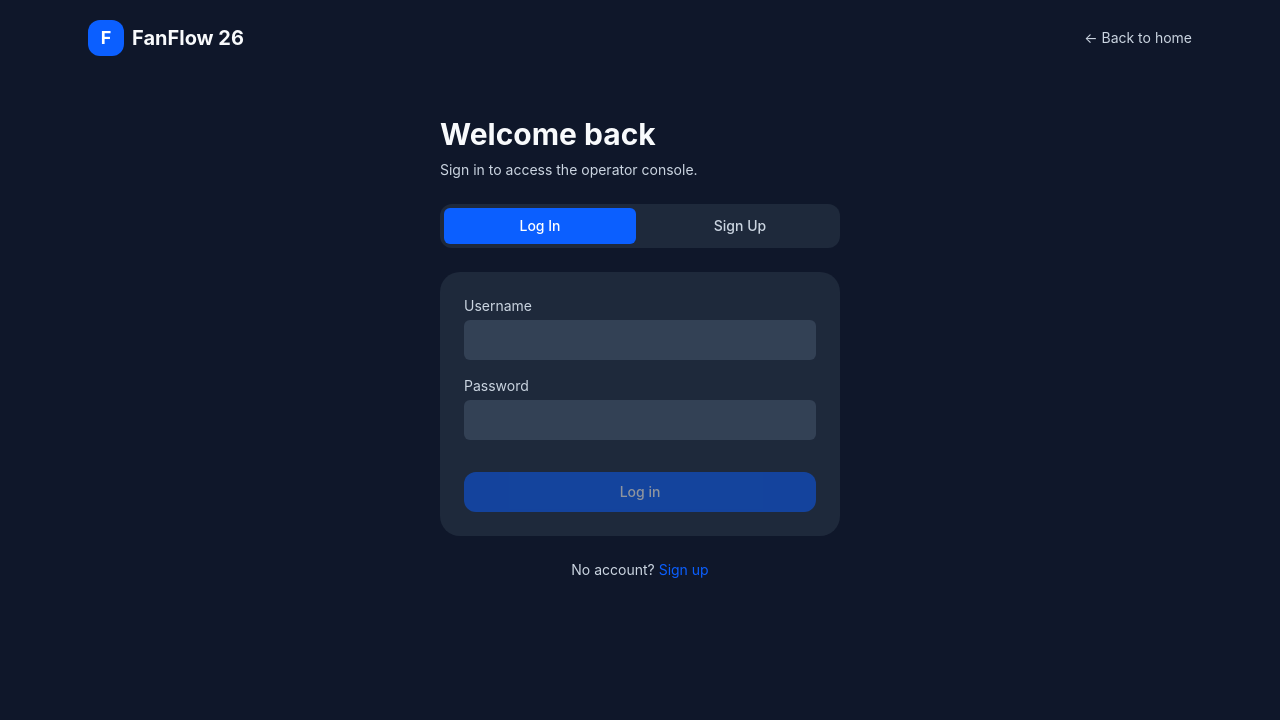
Test: AuthPage › shows an error when login fails
Type "operator" into the field labelled "Username" at (640, 340), box [464, 320, 816, 360]
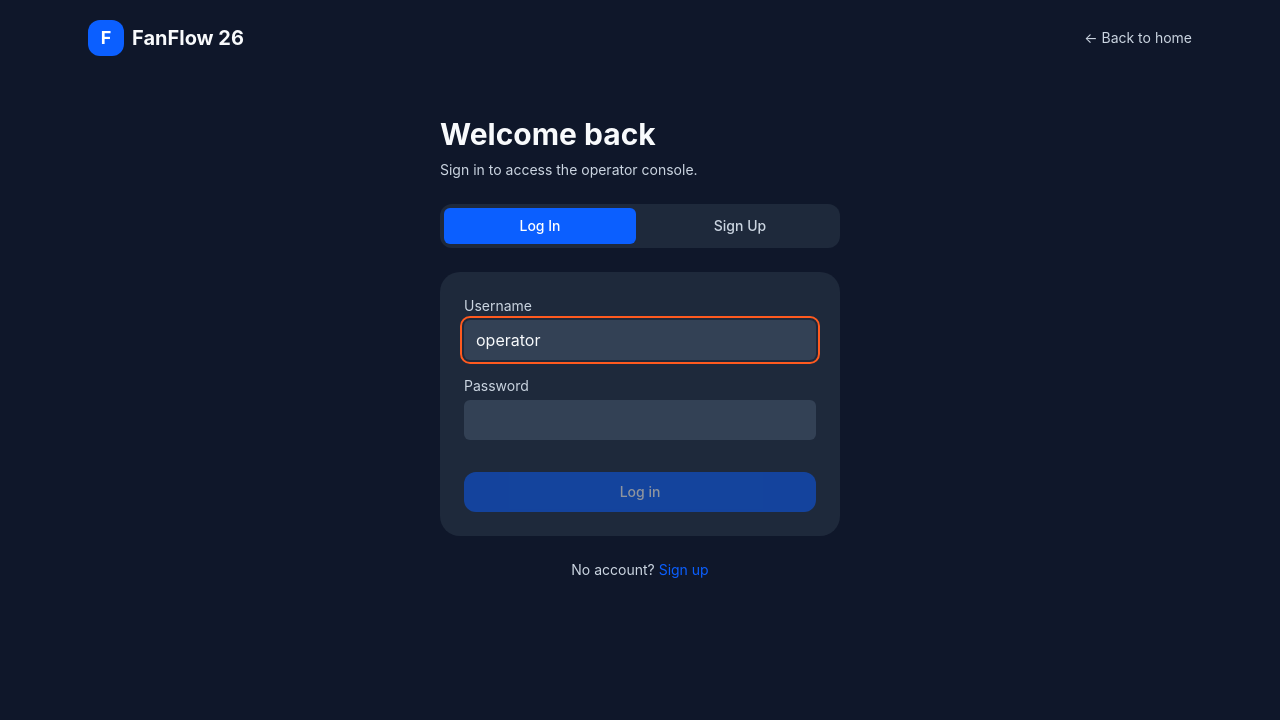
Type "wrong" into the password field labelled "Password" at (640, 420), box [464, 400, 816, 440]
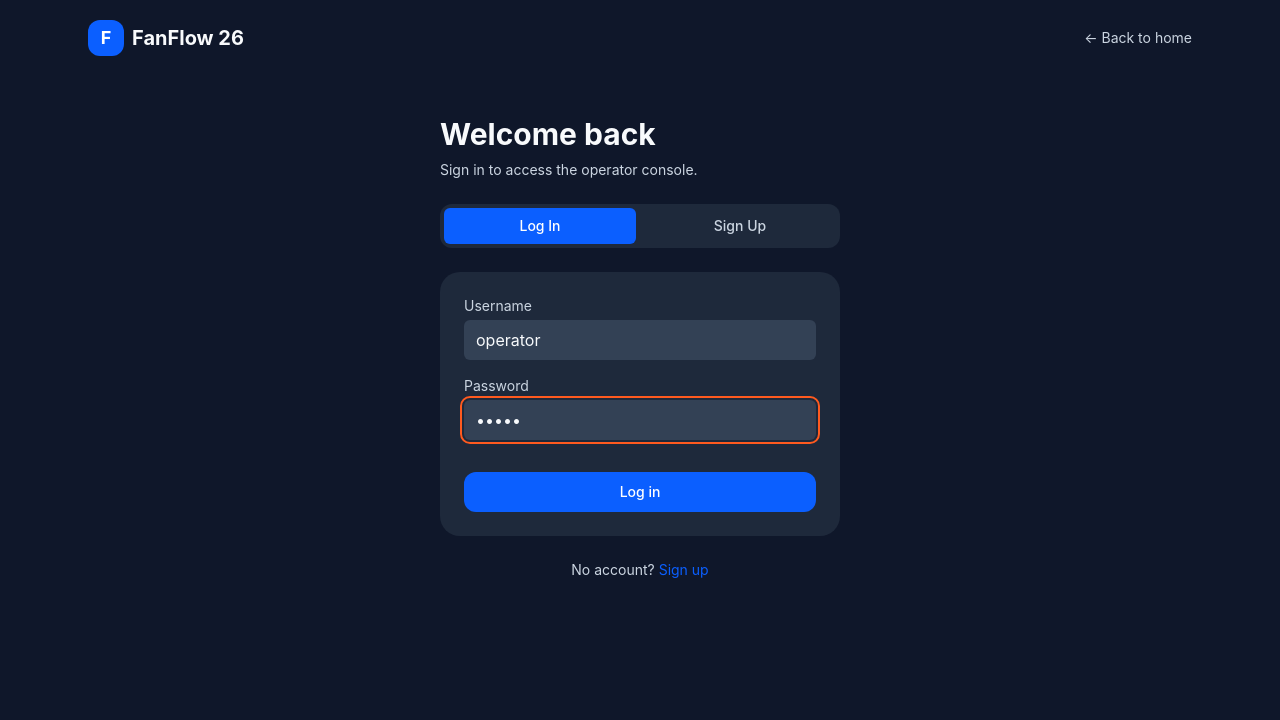
Click the button "Log in" at (640, 492), box [464, 472, 816, 512]
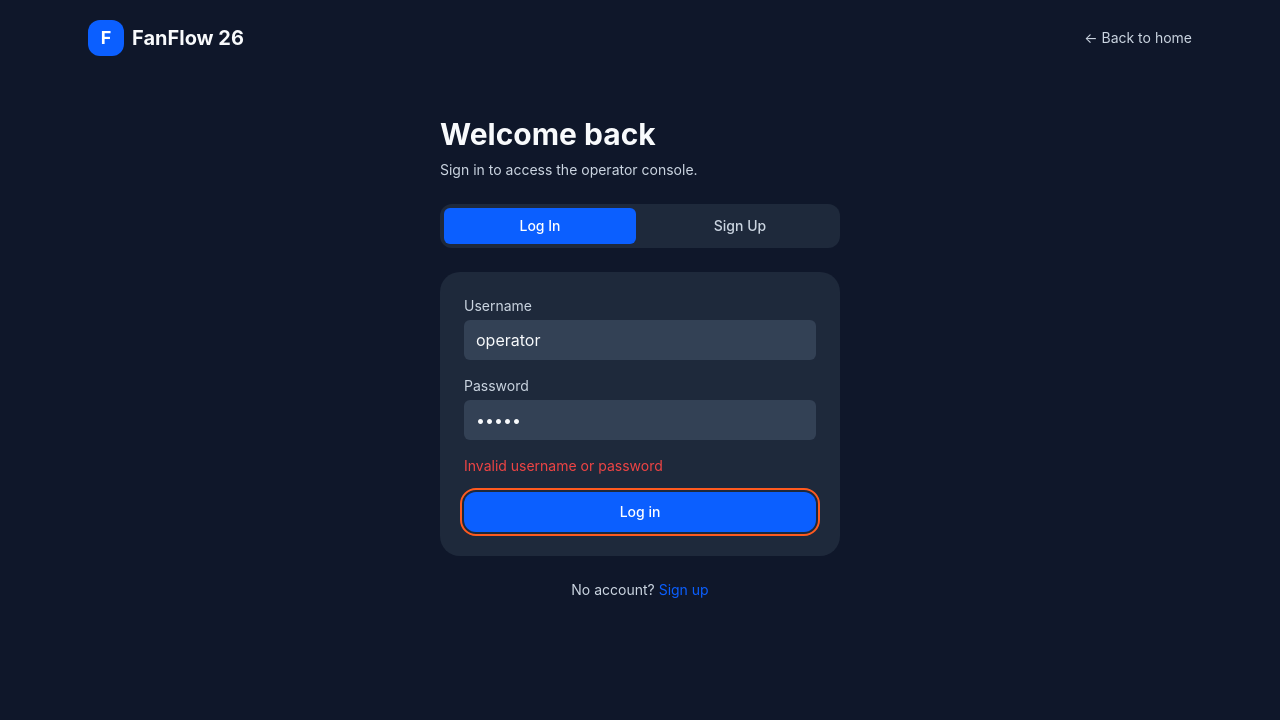
Now the message shows "Invalid", box [464, 457, 663, 474]
